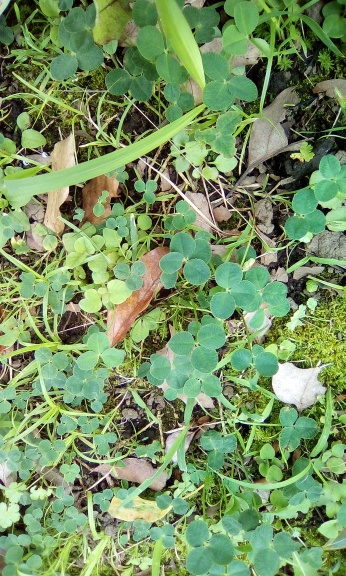4leaf: (158, 232, 212, 286)
